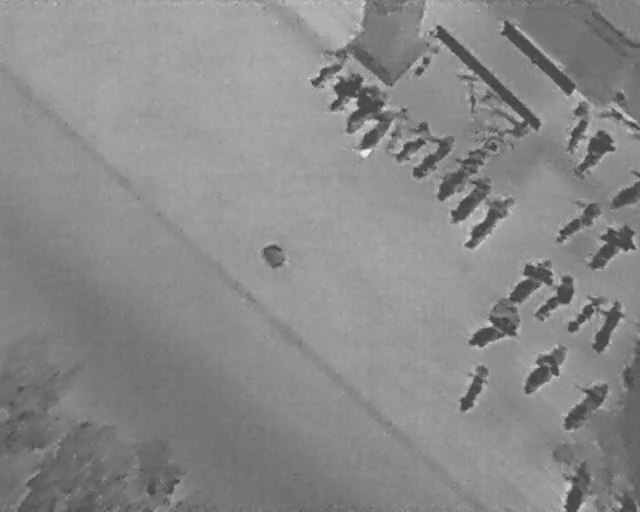Bicycle: (450, 185, 521, 255), (547, 369, 617, 439), (497, 246, 564, 313), (458, 299, 529, 362), (511, 336, 577, 402), (577, 217, 639, 282), (438, 168, 501, 229), (343, 99, 405, 160), (400, 125, 462, 186), (547, 191, 608, 252), (525, 270, 586, 331), (329, 79, 391, 139), (565, 123, 624, 186), (425, 148, 486, 207), (385, 115, 442, 171), (316, 63, 371, 117), (451, 355, 498, 418), (586, 294, 631, 359), (558, 286, 612, 340), (300, 48, 350, 94), (558, 110, 597, 159), (383, 102, 412, 158), (563, 460, 591, 510), (611, 178, 639, 209)
DontCare: (480, 126, 511, 157), (463, 72, 481, 116)
